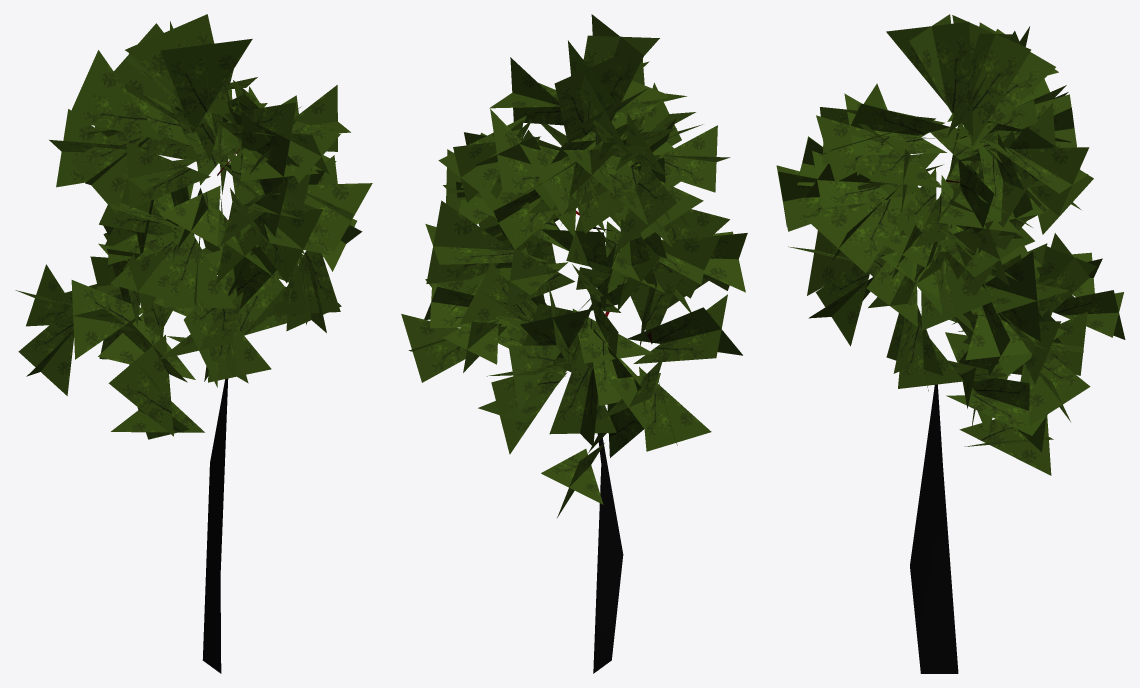
The model's file is birch 3 lod4.FBX.
3 views of the same model, side by side, from view 1: azimuth 30°, elevation 25°; view 2: azimuth 150°, elevation 25°; view 3: azimuth 270°, elevation 25° (orthographic). The views are drawn at different scales.
Visible parts, largest first — view 1: birch3_LOD4; view 2: birch3_LOD4; view 3: birch3_LOD4.
Part boxes in pixels (x1,y1,x2,y2): birch3_LOD4: [15, 14, 372, 673]; birch3_LOD4: [401, 14, 747, 673]; birch3_LOD4: [776, 14, 1125, 673].
Bounding box in the file's own units: 59174 × 122248 × 59281.
